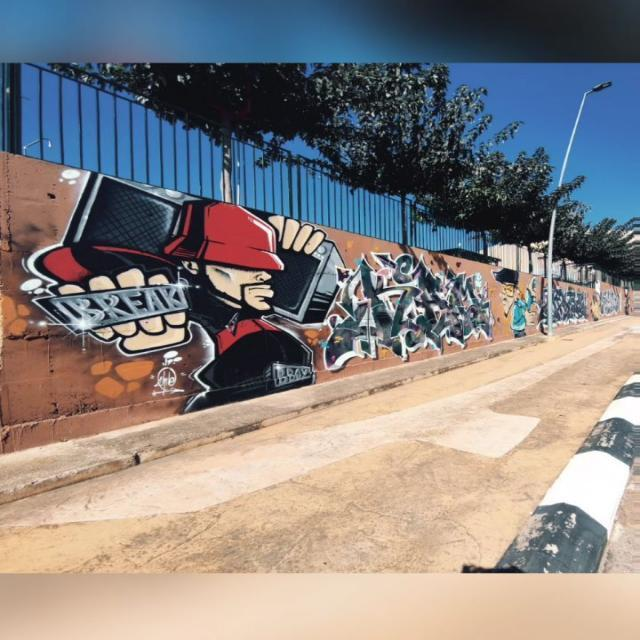-: (13, 158, 344, 396), (326, 262, 488, 372), (492, 269, 538, 340)
